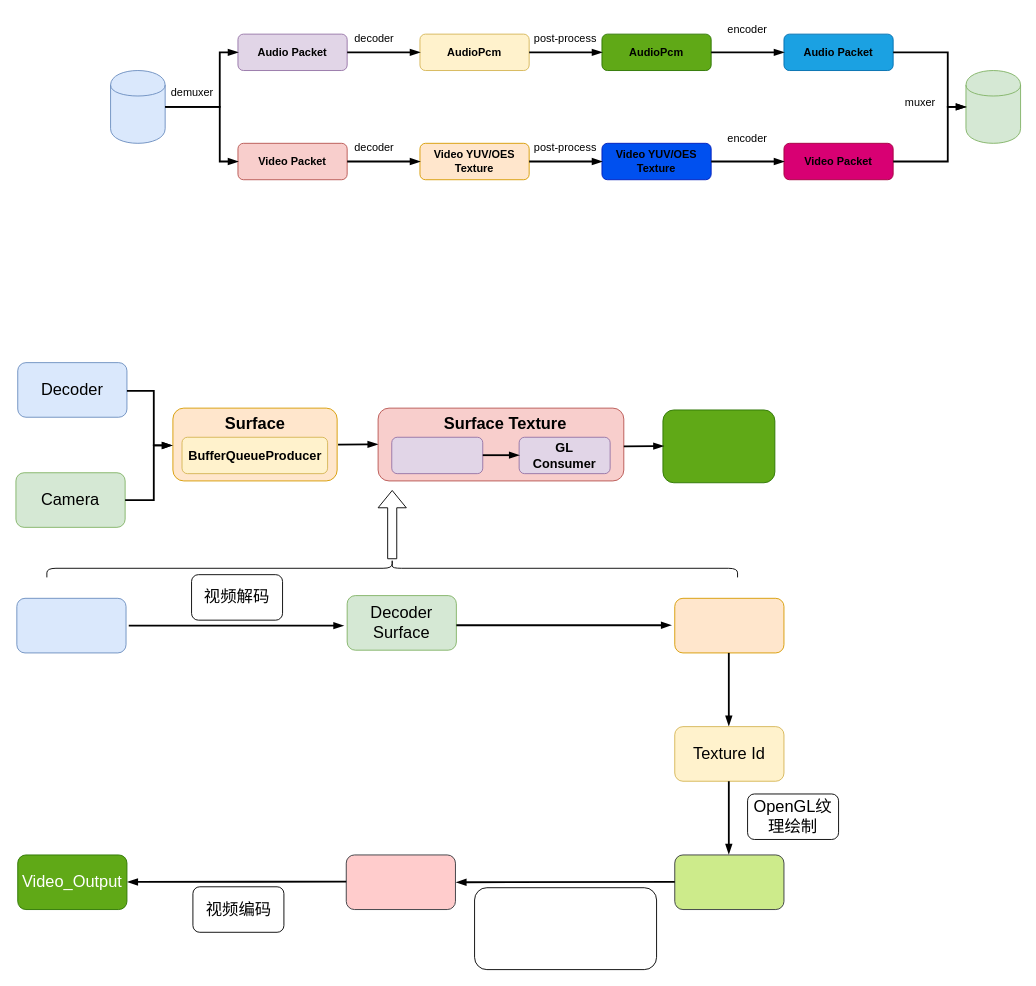
This 1036x986 diagram has some shape labels left out. The shapes that lost their labels are listed below. From the top down, each one's centre as x and y in pixels, then its label:
point (137, 106): input video
point (993, 106): output video
point (437, 455): BufferQueue Consumer
point (718, 446): External OES Texture
point (71, 625): Video_Input
point (729, 625): SurfaceTexture
point (400, 882): Encoder Surface
point (729, 882): EGLSurface
point (565, 928): 将编码器surface与OpenGL的EGLSurface绑定，ELGSurface内容变化会同步surface内容
